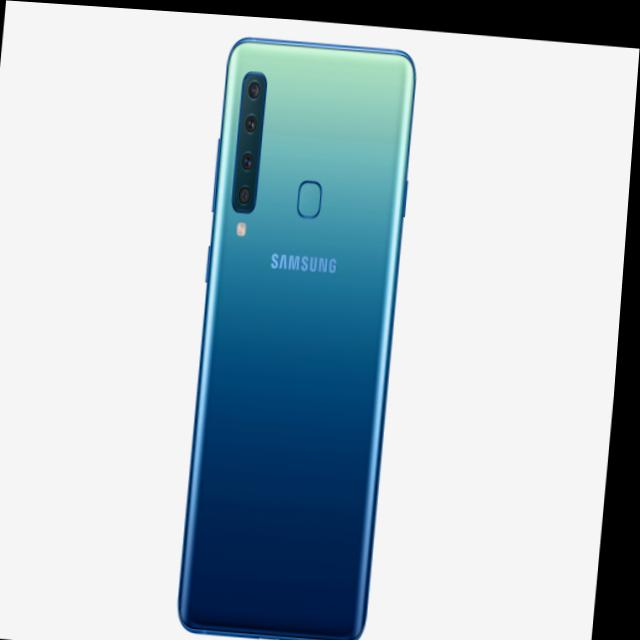Smartphone: (182, 24, 423, 640)
